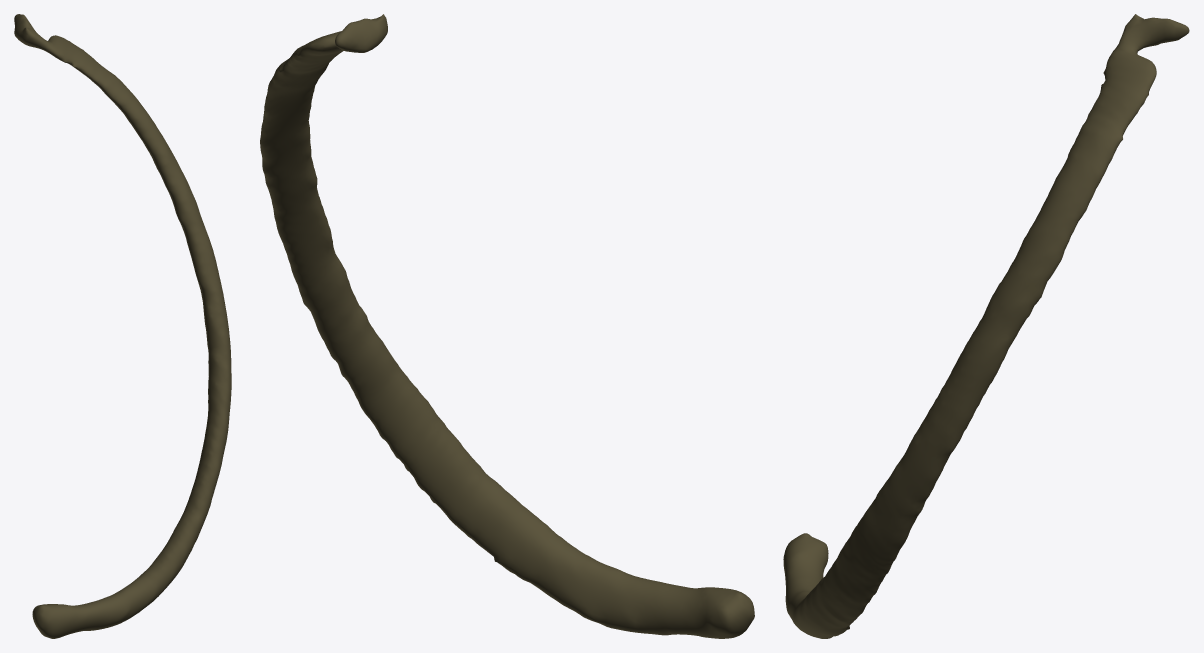
File: segmentations_rib_right_4.obj
3 renders of one model, left to right at view 1: azimuth 30°, elevation 25°; view 2: azimuth 150°, elevation 25°; view 3: azimuth 270°, elevation 25°, orthographic. The views are drawn at different scales.
Parts seen in each view (by area): view 1: grp1; view 2: grp1; view 3: grp1.
Boxes of the visible parts, x1,y1,x2,y2 form: grp1: (14, 14, 231, 638); grp1: (260, 14, 754, 638); grp1: (783, 14, 1189, 638).
Bounding box in the file's own units: 57.83 × 111 × 63.79.
